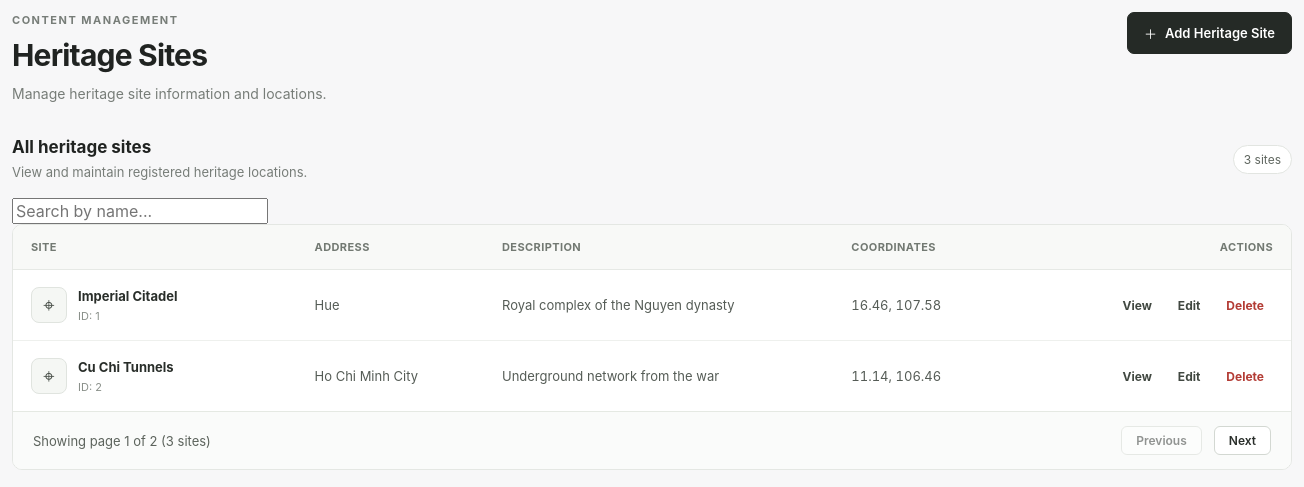
it: HeritageSitesPage — search & pagination › supports M2 backend PageResponse and handles pagination
The image size is (1304, 487).
Expected: the text "Imperial Citadel" is shown, [78,288,178,304]
Expected: the text "Cu Chi Tunnels" is shown, [78,359,174,375]
What coordinates should you click on to do the following:
click the button with aria-label "next page"
I would click on:
 (1242, 441)
Its box is [1214,426,1271,455].
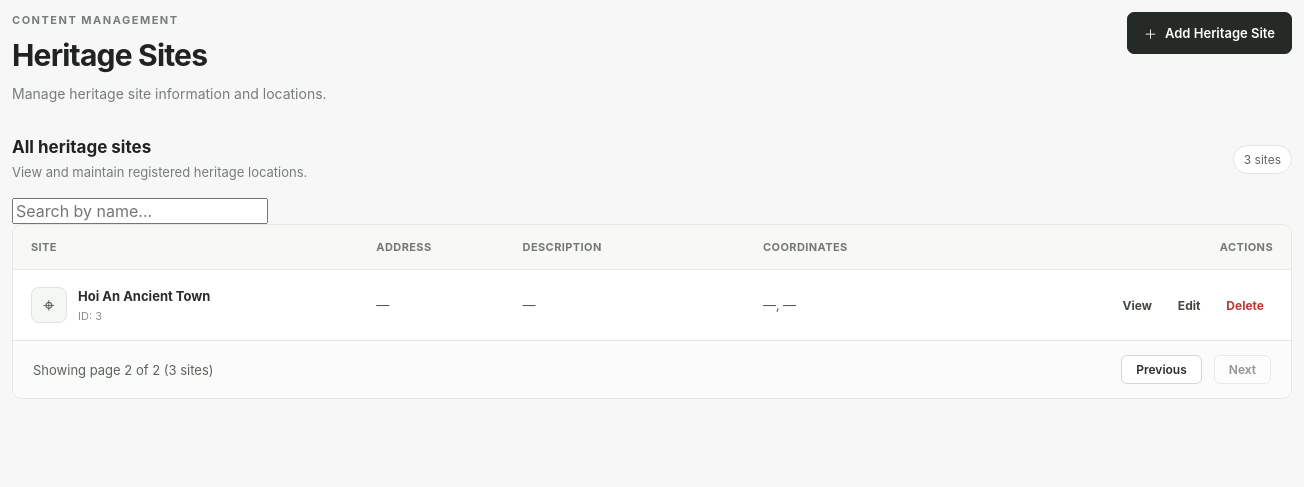
Now the text "Hoi An Ancient Town" is shown, box [78,288,210,304]
Now the text "Showing page 2 of 2 (3 sites)" is shown, box [33,362,214,378]
Now the button with aria-label "next page" is disabled, box [1214,355,1271,384]
